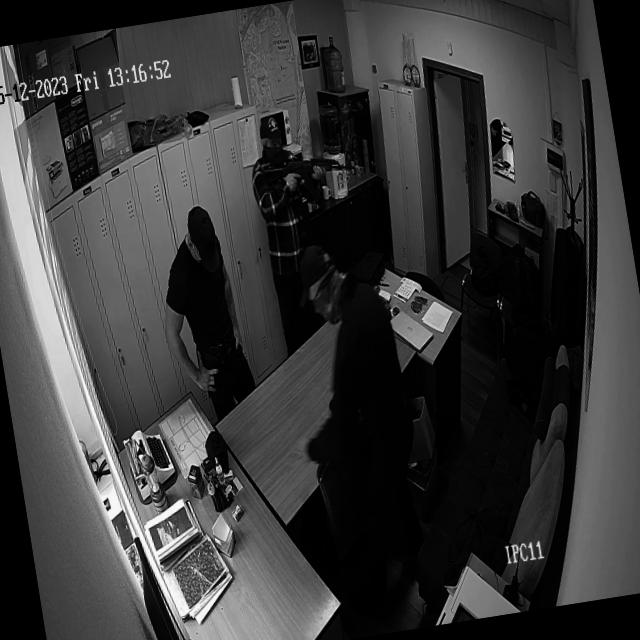gun: (262, 150, 356, 199)
person: (152, 194, 268, 432), (288, 226, 402, 449)
person with a gun: (235, 95, 368, 284)
